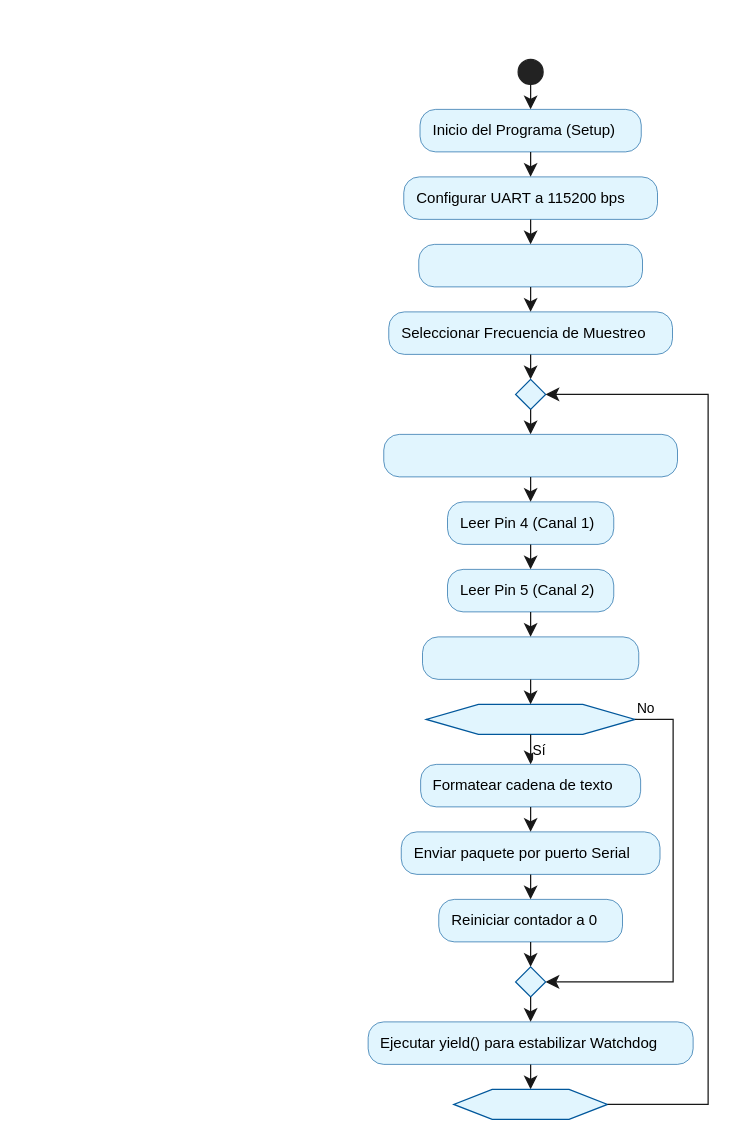
This 743x1141 diagram has some shape labels left out. Here are the shapes that lost their labels. From the top down, the centre of each, then its label:
At point 530,265: "Configurar Pines ADC 4 y 5".
At point 530,455: "Esperar tiempo de muestreo (micros)".
At point 530,657: "Guardar lecturas en Buffer".
At point 530,718: "¿Buffer tiene 64 muestras?".
At point 530,1103: "Bucle Infinito Loop".
